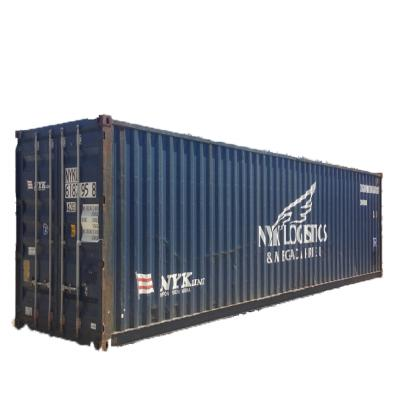Damage: (102, 104, 114, 334), (150, 224, 188, 270), (208, 289, 245, 315), (147, 301, 182, 325), (80, 245, 98, 290), (199, 246, 255, 260)
